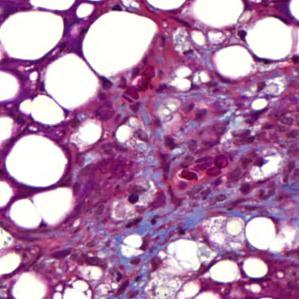steatosis: (81, 11, 157, 81), (0, 8, 66, 61), (3, 133, 67, 187)
